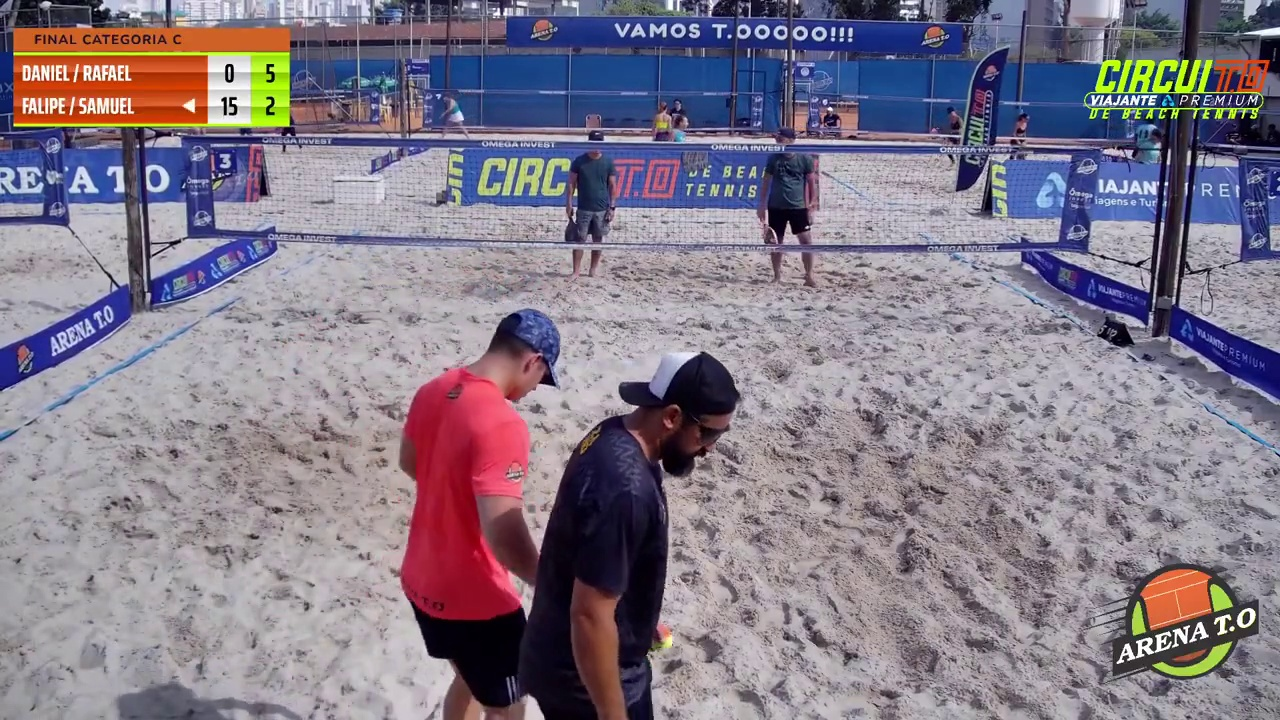court_line: (619, 0, 816, 547)
